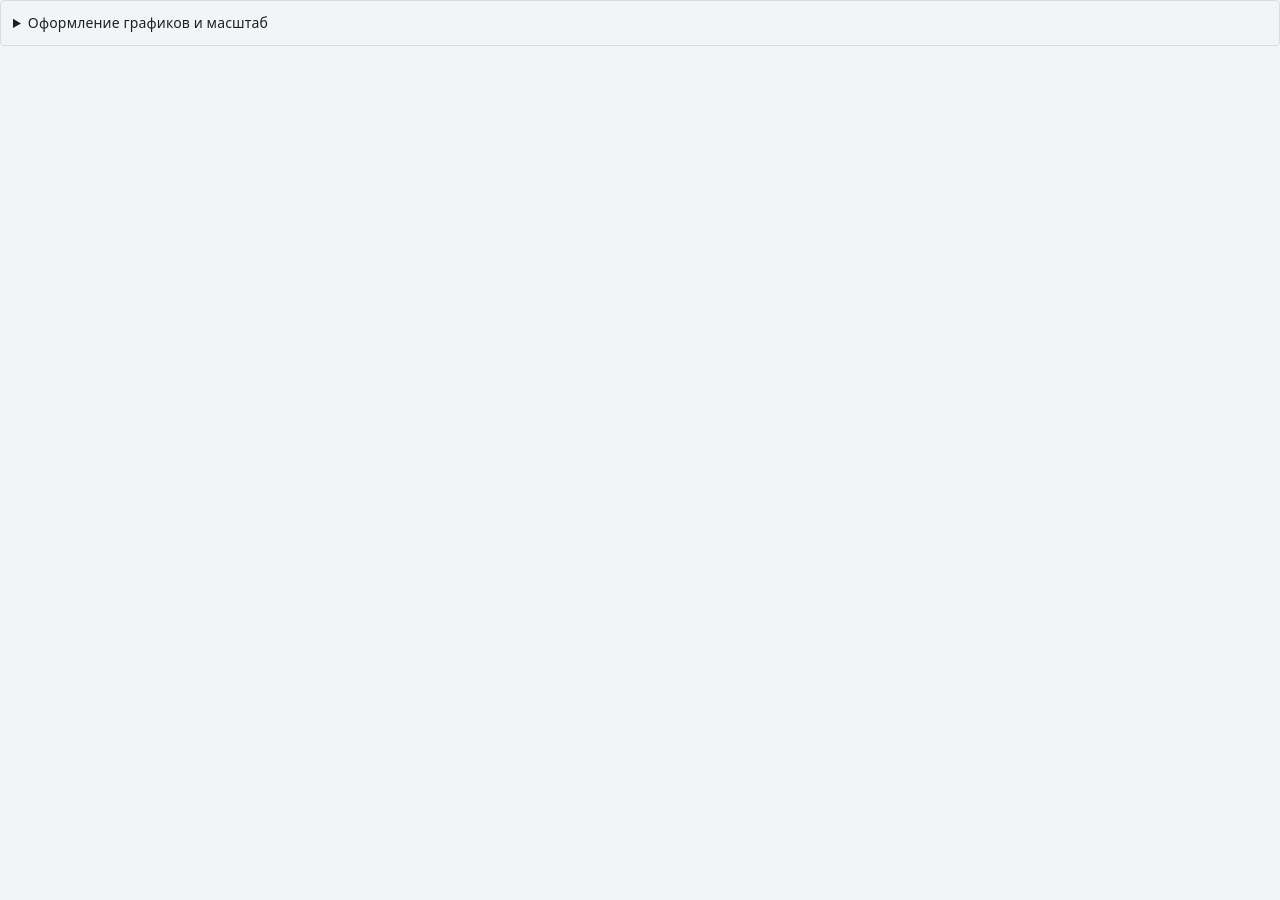
Test: applies valid edits only on request, keeps panels independent, resets and rejects wrong-unit windows
Later steps or results of the test are not shown.
Click the heading "Оформление графиков и масштаб": (148, 23) [28,15,268,31]
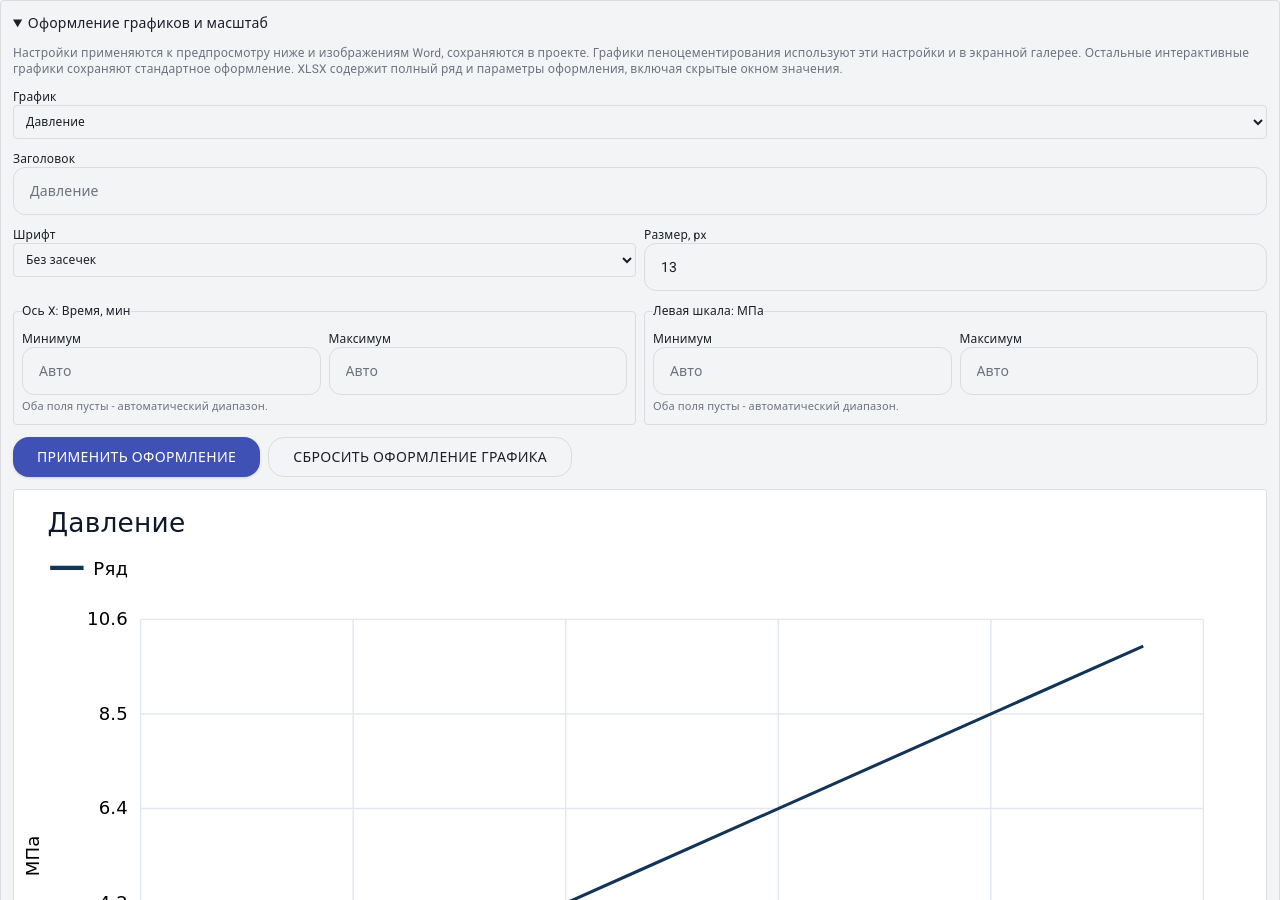
In the field named "Заголовок графика": (640, 191) [13,167,1267,215], type "Мой график"
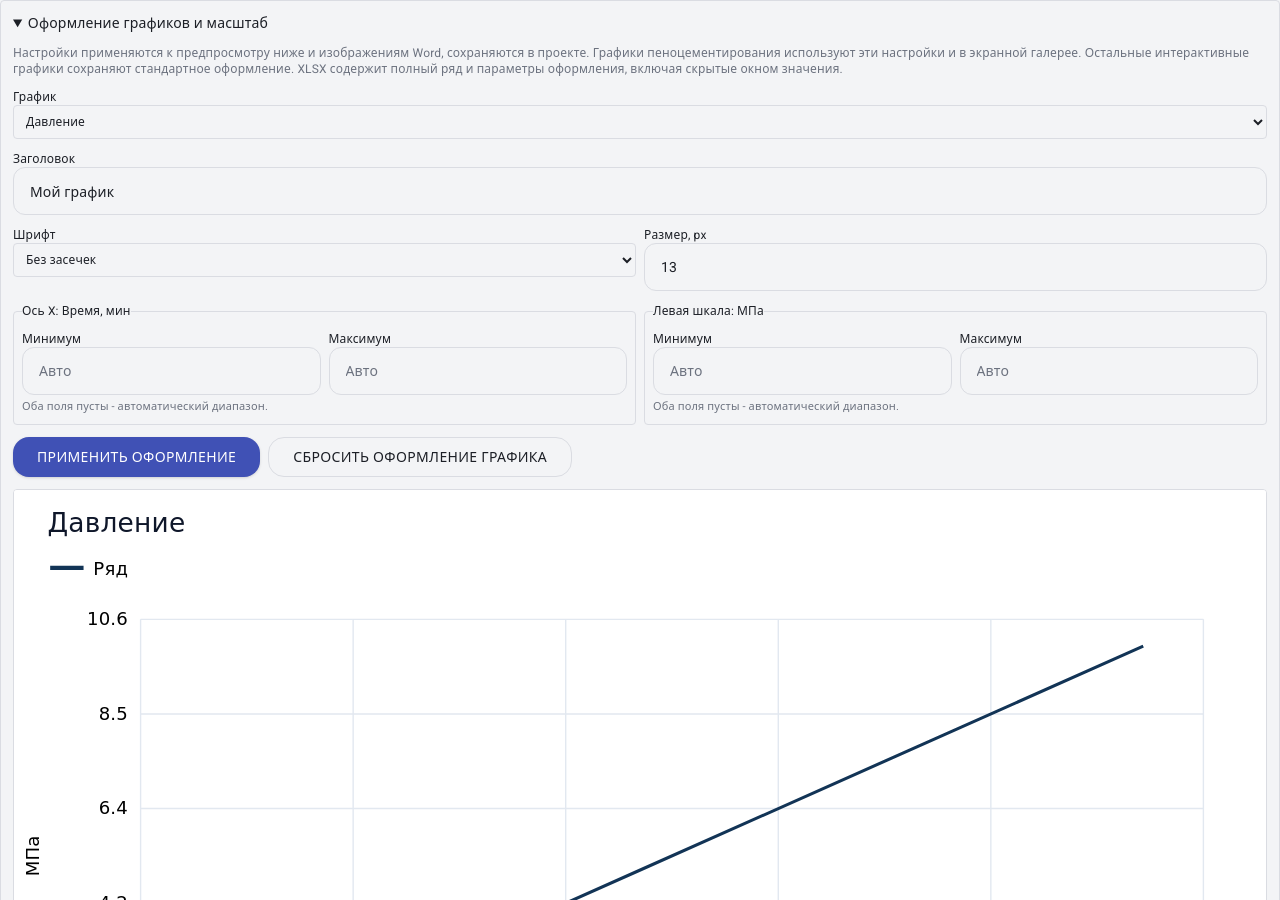
In the number field named "left Min": (802, 371) [653,347,952,395], type "1"
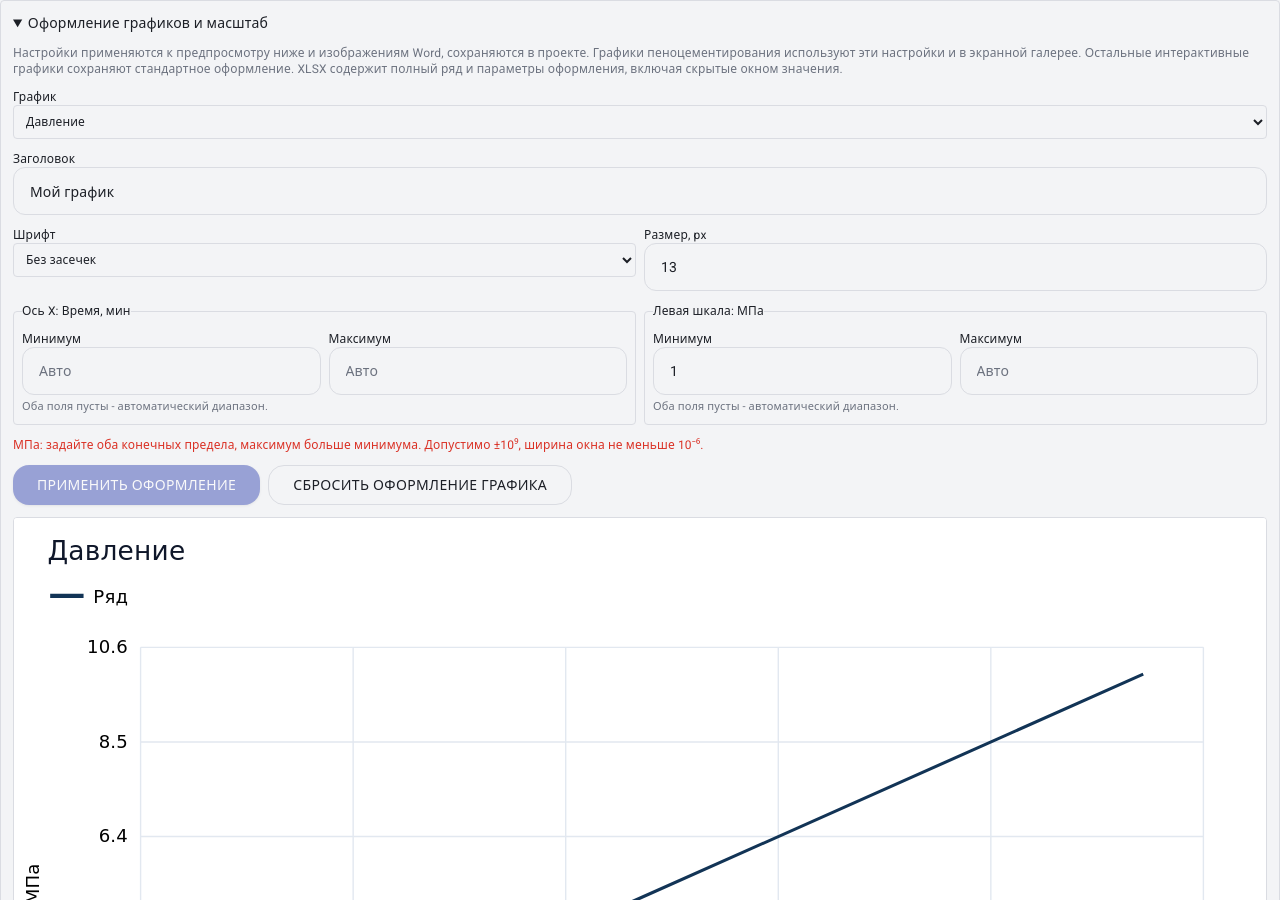
Expected: the button "Применить оформление" is disabled, [13,464,260,504]
In the number field named "left Max": (1109, 371) [960,347,1258,395], type "9"
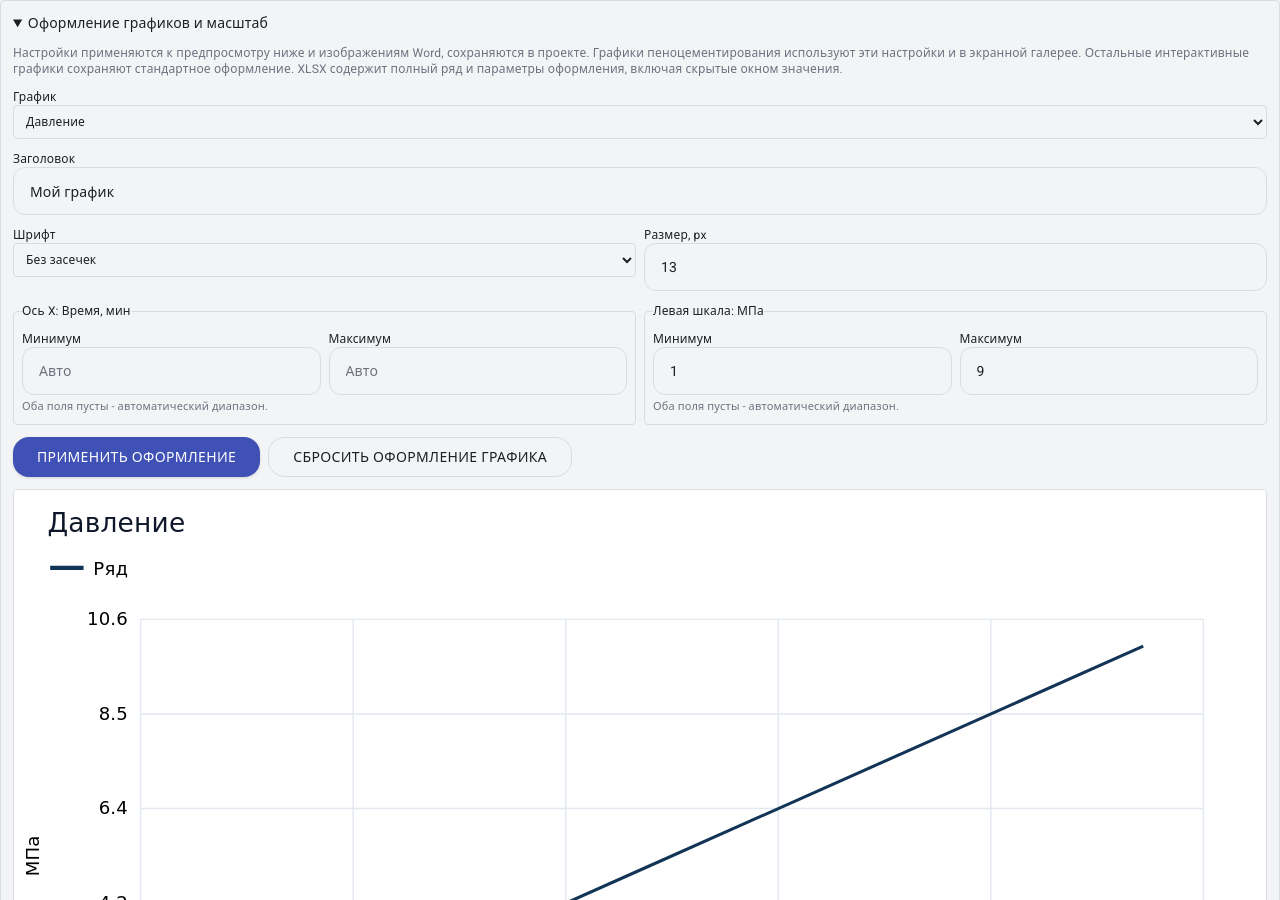
Click the button "Применить оформление": (137, 456) [13,436,260,476]
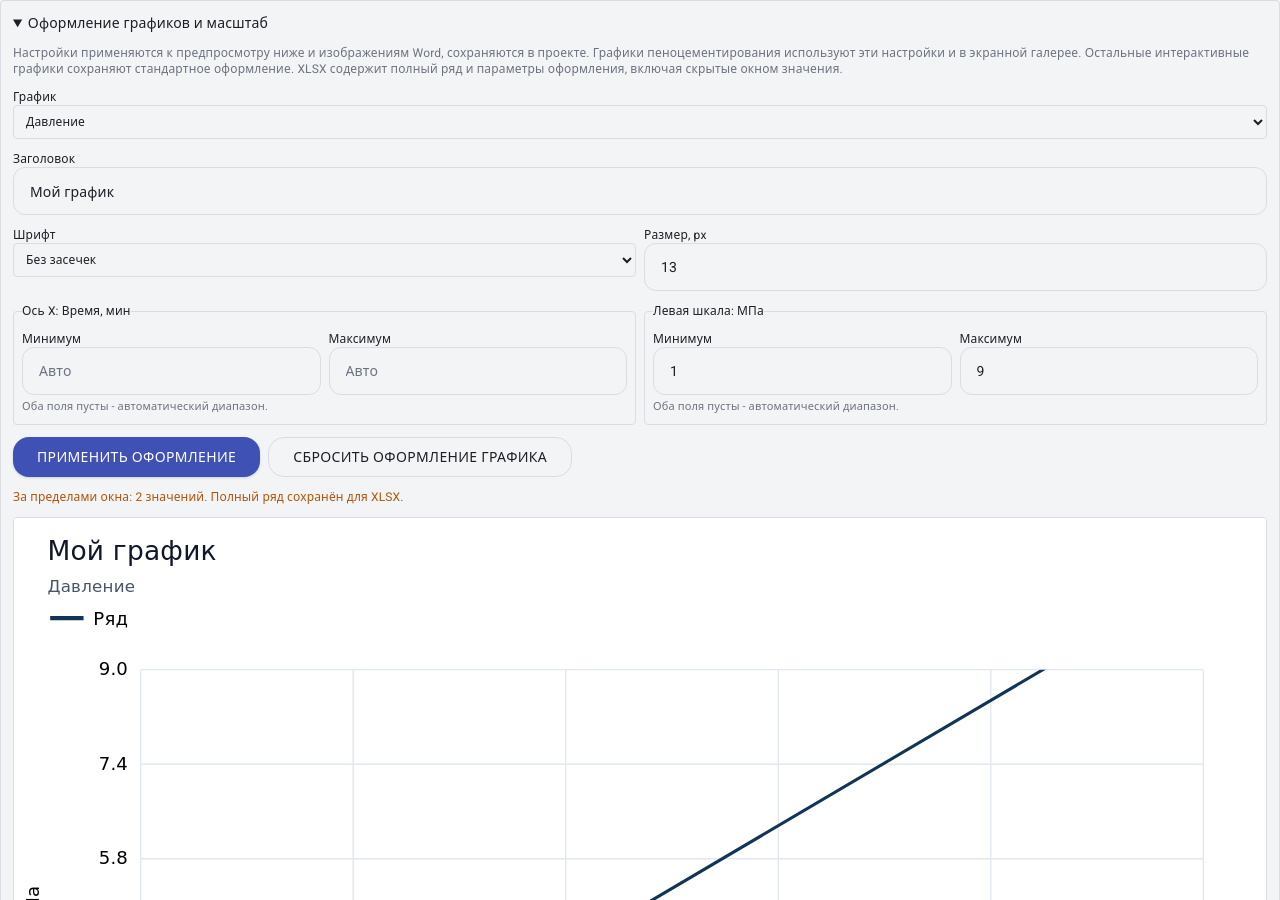
Expected: the message shows "За пределами окна", [13,490,135,504]
Select "Расход" in the dropdown named "График для оформления": (640, 122) [13,105,1267,139]
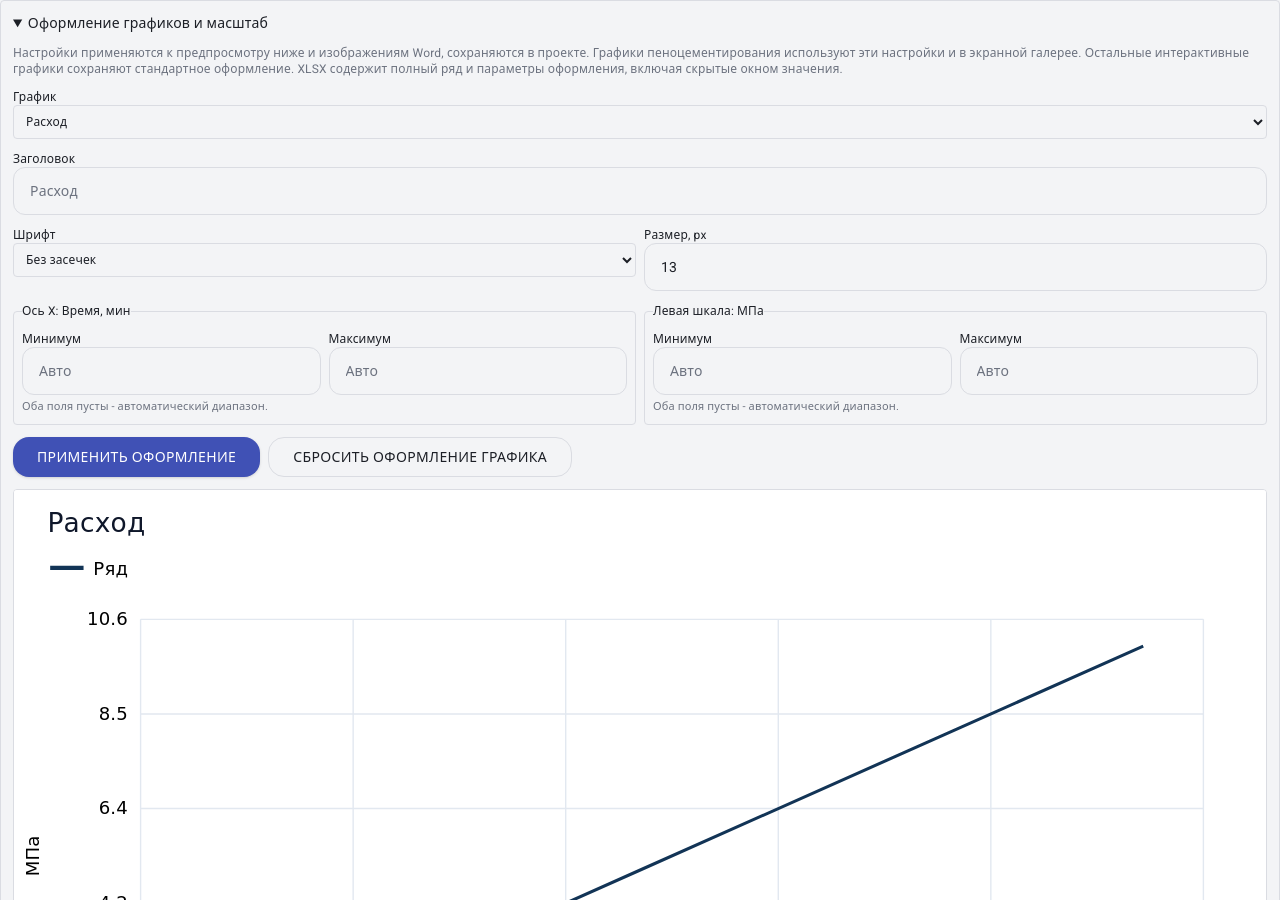
Expected: the field named "Заголовок графика" is empty, [13,167,1267,215]
